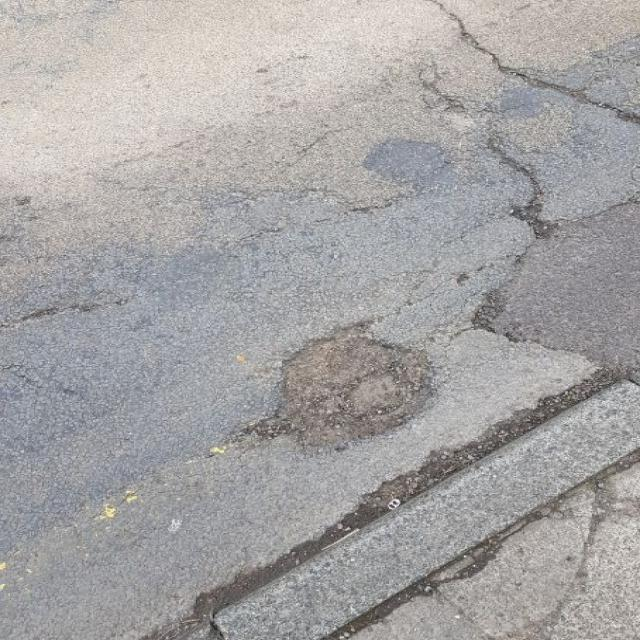Pothole: (230, 311, 446, 449)
